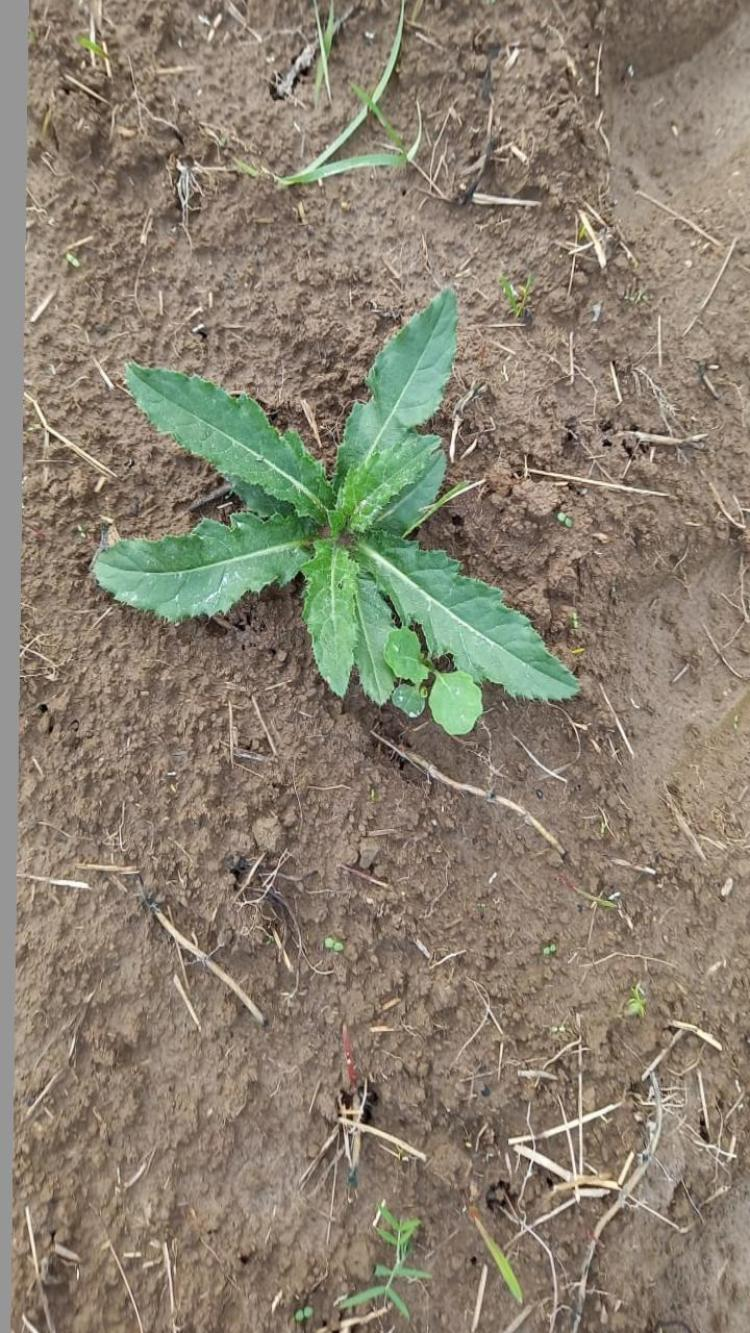osot: (92, 281, 588, 756)
